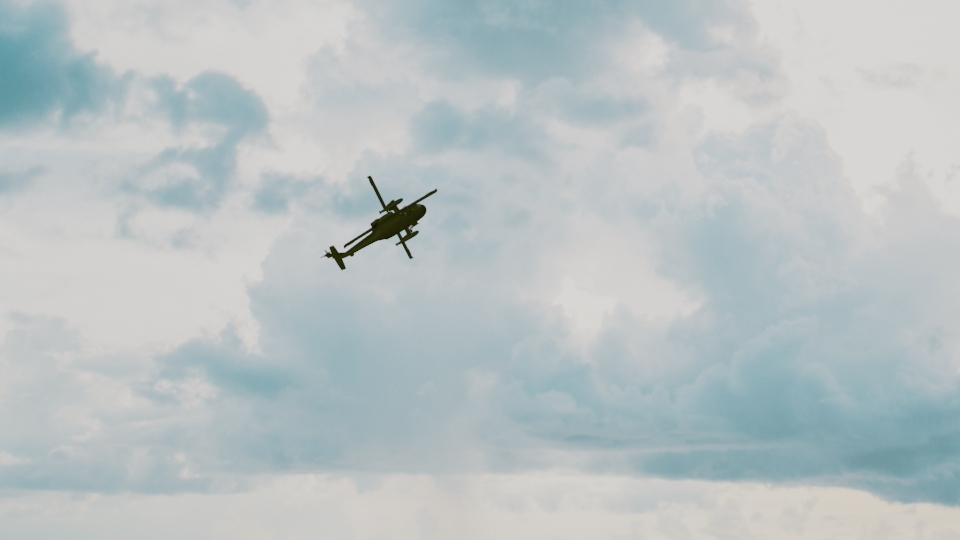heli: (325, 174, 438, 272)
